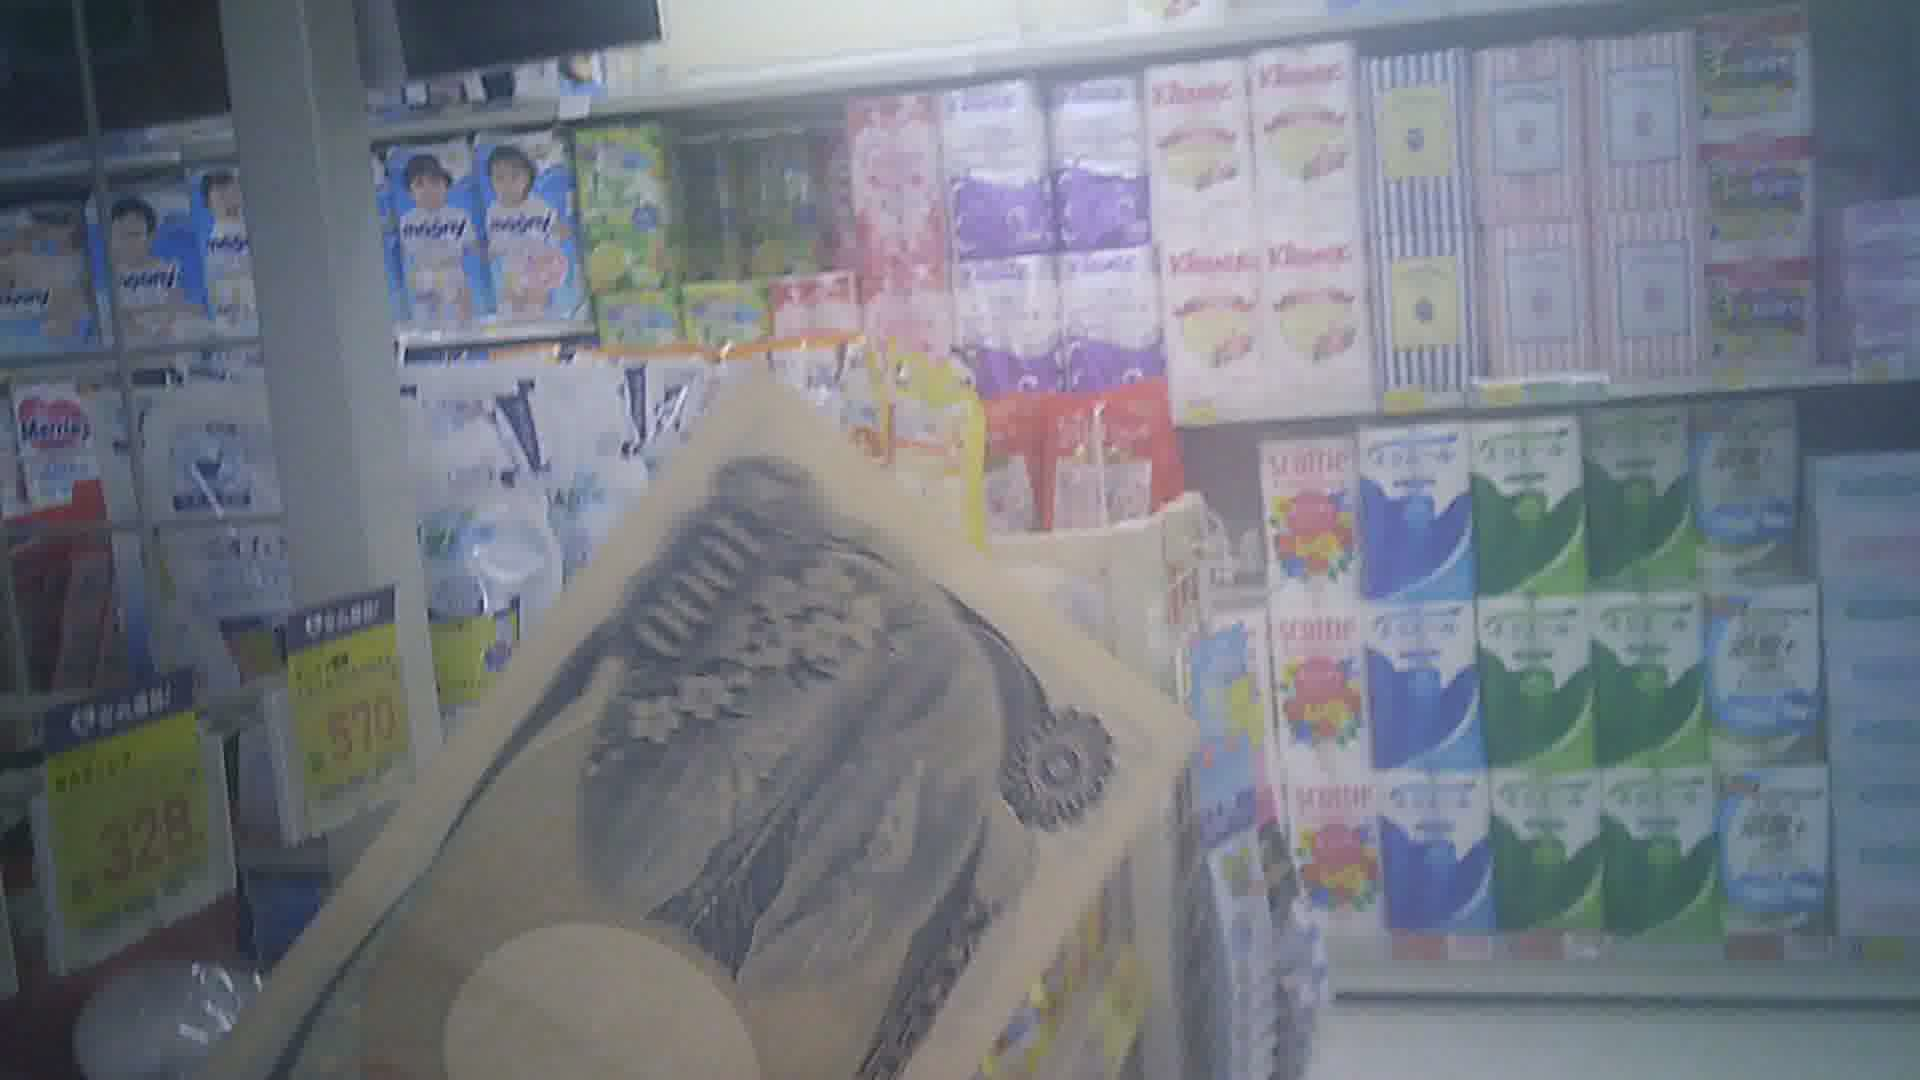1,000 Yen: (272, 356, 1195, 1079)
